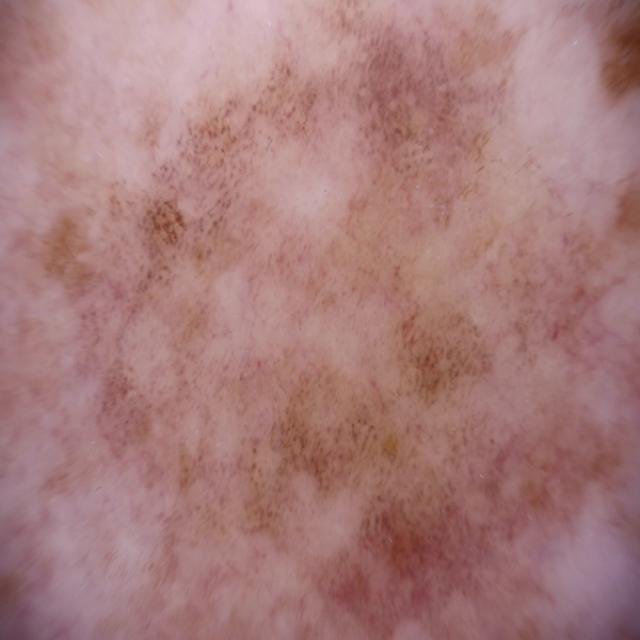Skin-Cancer Pigmented benign keratosis: (5, 2, 640, 613)
